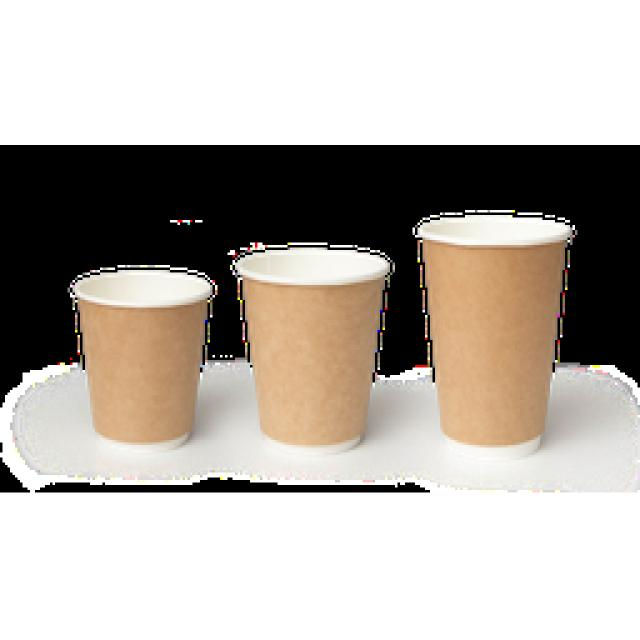paper_cups: (418, 207, 574, 455), (238, 243, 391, 457), (75, 268, 213, 451)
